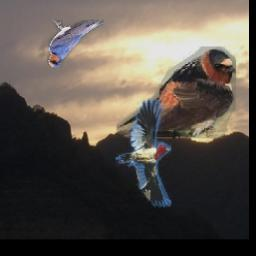Swallow: (117, 47, 236, 139), (48, 20, 105, 67)
Woodpecker: (116, 98, 171, 207)
